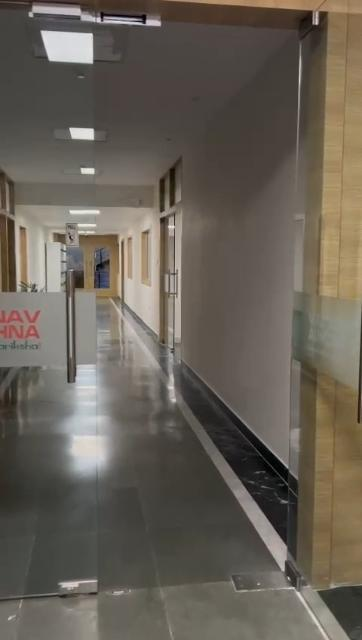door: (152, 178, 180, 348), (72, 230, 119, 298)
floor: (0, 304, 328, 640)
wall: (185, 49, 293, 464)
